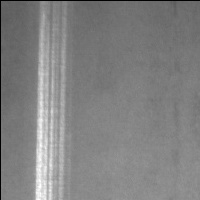scratches: (32, 2, 70, 200)
